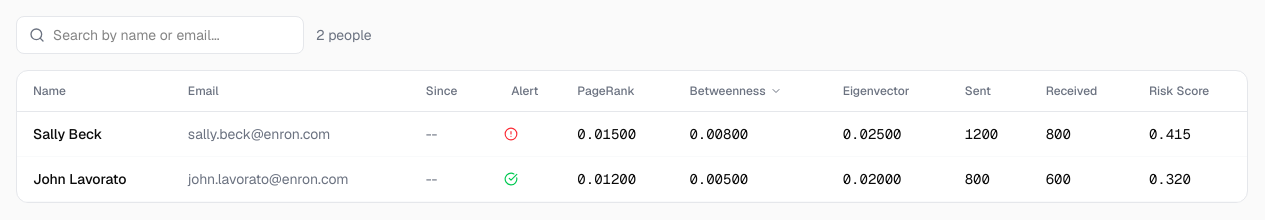
People Page (Redesigned) › filters people by search query
Expected: the text "Sally Beck" is shown, [17, 112, 172, 156]
Type "sally" into the field with placeholder "Search by name or email..." at [172, 35], box [53, 25, 291, 45]
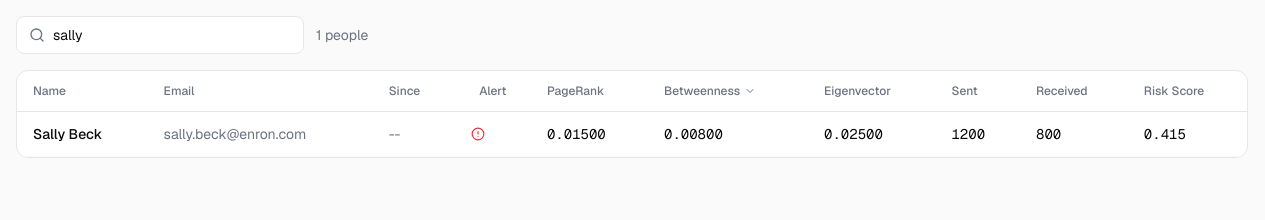
Expected: the text "Sally Beck" is shown, [17, 112, 148, 156]
Now the text "John Lavorato" is gone
